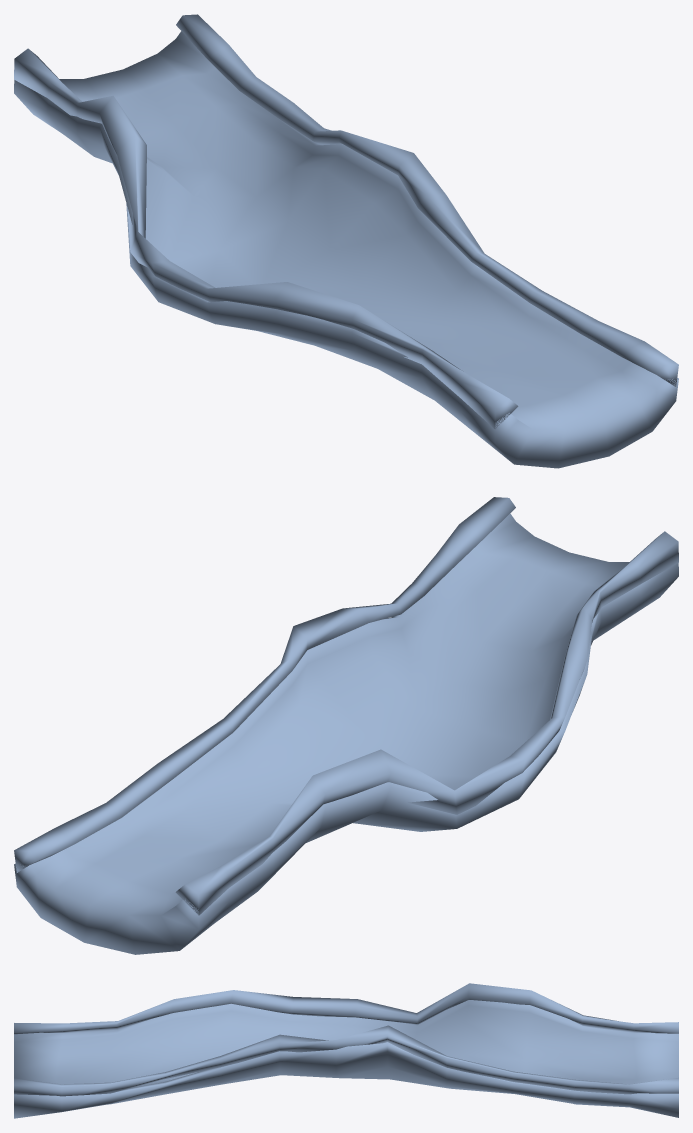
Rendered from junRoadLong10.fbx.
3 renders of one model, top to bottom at view 1: azimuth 30°, elevation 25°; view 2: azimuth 150°, elevation 25°; view 3: azimuth 270°, elevation 25°, orthographic. The views are drawn at different scales.
Visible parts, largest first — view 1: roadLong10_LOD0, roadLong10_edge_LOD0; view 2: roadLong10_LOD0, roadLong10_edge_LOD0; view 3: roadLong10_LOD0, roadLong10_edge_LOD0.
Boxes of the visible parts, box(x1,y1,x2,y2) form: roadLong10_LOD0: box(14, 31, 678, 468); roadLong10_edge_LOD0: box(14, 14, 678, 429); roadLong10_LOD0: box(14, 513, 678, 954); roadLong10_edge_LOD0: box(14, 497, 678, 915); roadLong10_LOD0: box(14, 1000, 678, 1118); roadLong10_edge_LOD0: box(14, 983, 678, 1096).
Size of the model in its own units: 1475 by 647 by 4379.
